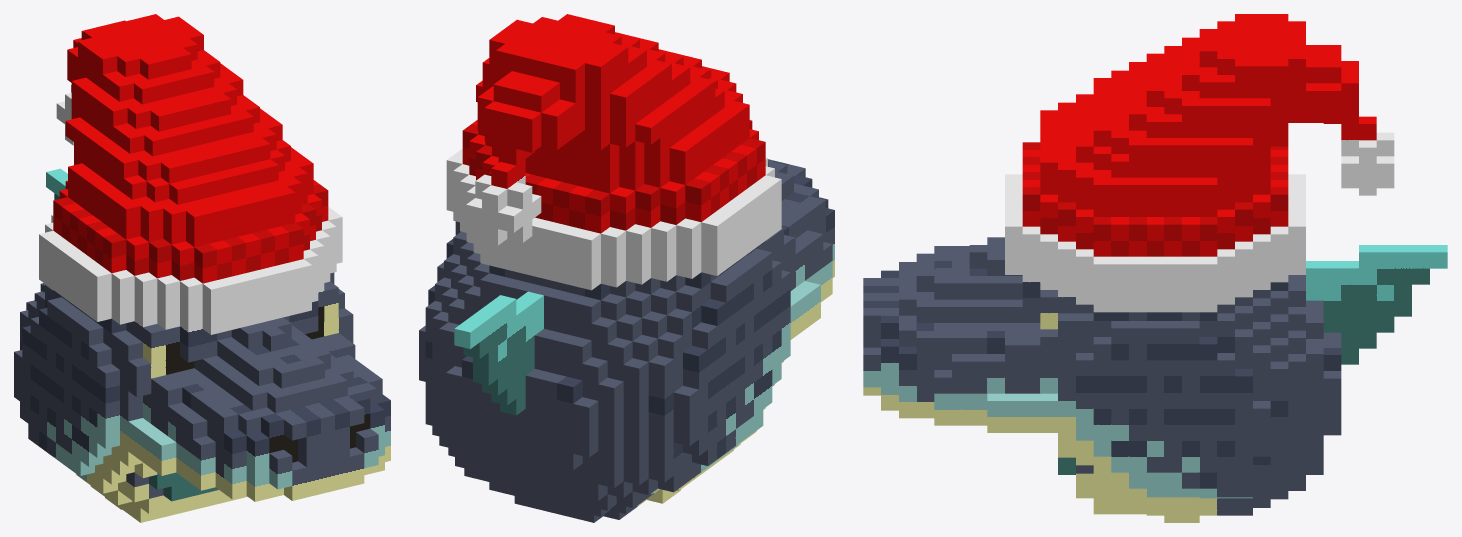
The model's file is santa hat.gltf.
The picture shows the model from 3 angles, left to right: view 1: azimuth 30°, elevation 25°; view 2: azimuth 150°, elevation 25°; view 3: azimuth 270°, elevation 25°; orthographic projection. The views are drawn at different scales.
Visible parts, largest first — view 1: 11_Zilla_Head_Santa_Hat-Mesh; view 2: 11_Zilla_Head_Santa_Hat-Mesh; view 3: 11_Zilla_Head_Santa_Hat-Mesh.
Boxes of the visible parts, box(x1,y1,x2,y2) form: 11_Zilla_Head_Santa_Hat-Mesh: box(14, 14, 390, 522); 11_Zilla_Head_Santa_Hat-Mesh: box(419, 14, 834, 522); 11_Zilla_Head_Santa_Hat-Mesh: box(863, 14, 1447, 522).
Size of the model in its own units: 17 by 28 by 33.
1 material, 1 textured.
